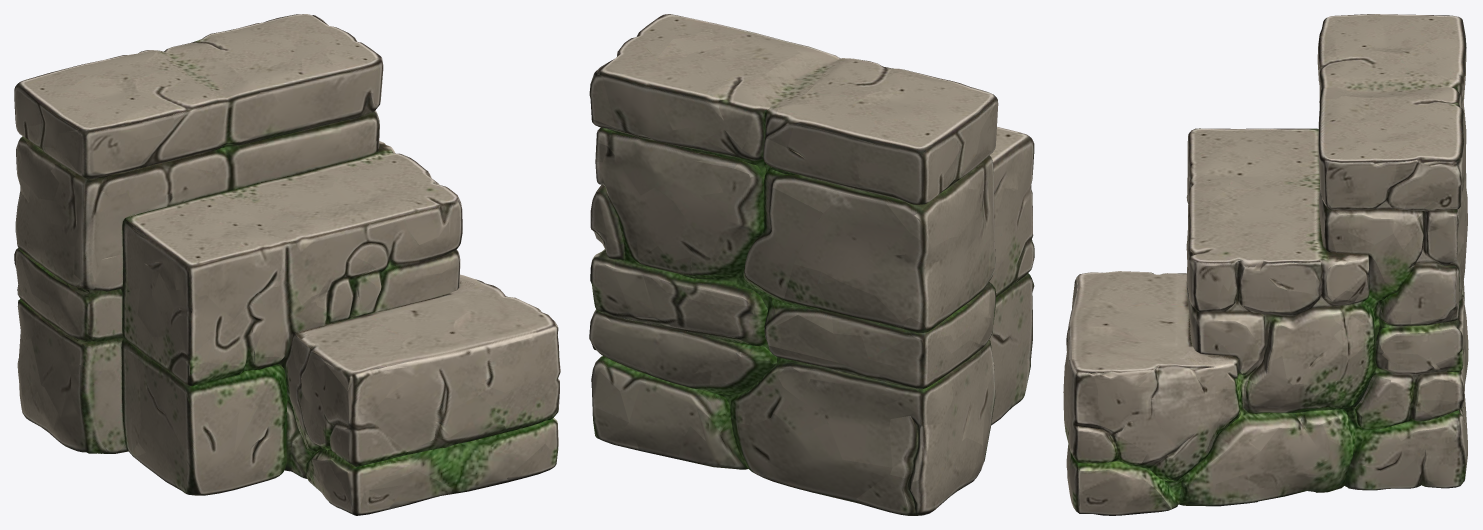
Rendered from RockStairs.fbx.
3 views of the same model, side by side, from view 1: azimuth 30°, elevation 25°; view 2: azimuth 150°, elevation 25°; view 3: azimuth 270°, elevation 25° (orthographic). The views are drawn at different scales.
Parts seen in each view (by area): view 1: RockStairs; view 2: RockStairs; view 3: RockStairs.
Part boxes in pixels (box(x1,y1,x2,y2)): RockStairs: box(14, 14, 560, 515); RockStairs: box(589, 14, 1034, 515); RockStairs: box(1063, 14, 1468, 515).
Size of the model in its own units: 2 by 1.78 by 1.95.
1 material, 1 textured.
